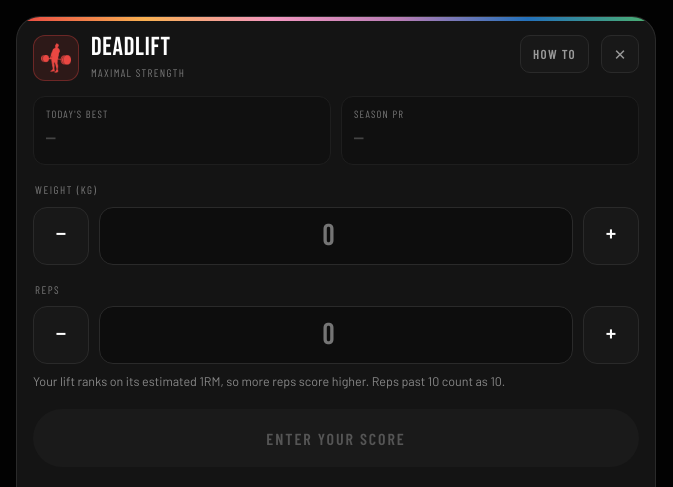
Test: the est. 1RM hint › counts reps past ten as ten
Type "60" into the 1st number field with placeholder "0" at [336, 236], box [99,207,573,265]
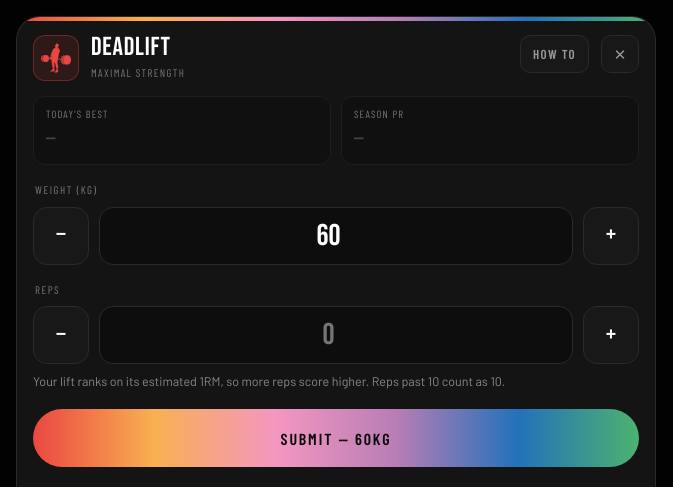
Type "15" into the number field with placeholder "0" at [336, 335], box [99,306,573,364]
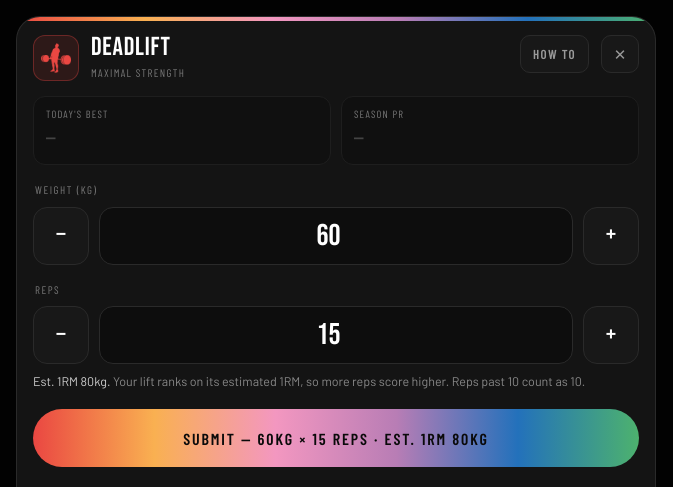
Expected: the text "Est. 1RM 80kg." is shown, [33,373,113,389]
